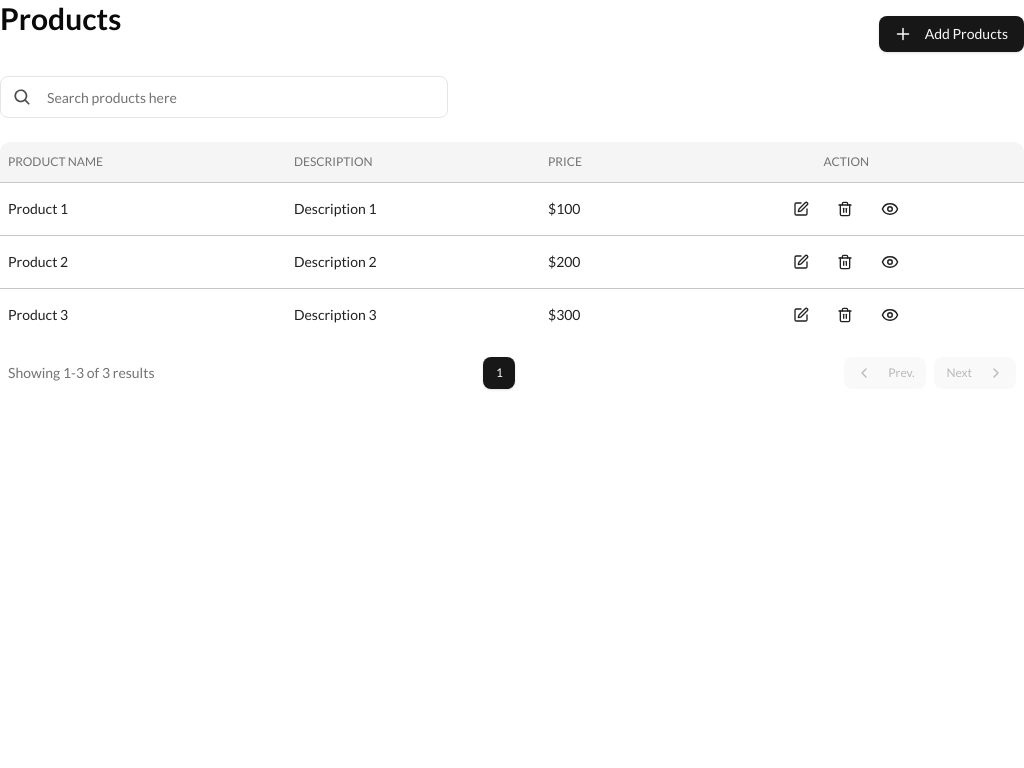
Test case: Products Component - Integration Tests › Dialog State Management › should open create dialog when add button is clicked
Click the button with test id "add-product-button" at (951, 34), box [879,16,1023,52]
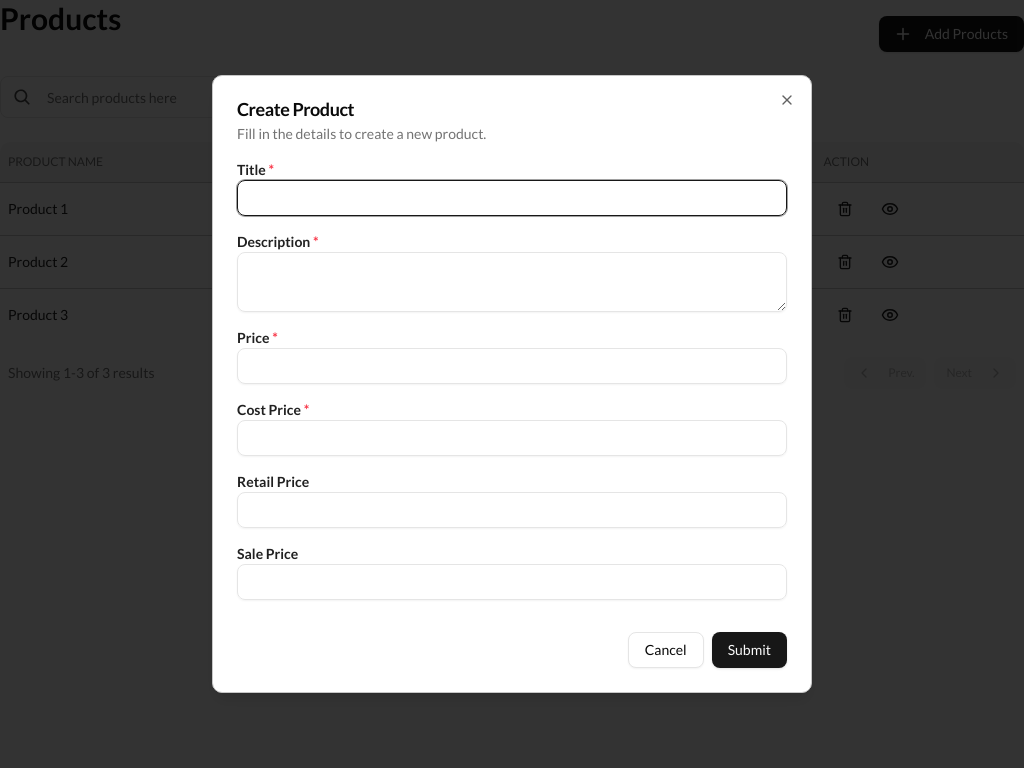
Expected: the dialog with test id "product-dialog" is shown, [212,75,812,693]
Expected: the heading with test id "dialog-title" reads "Create Product", [237,98,354,120]
